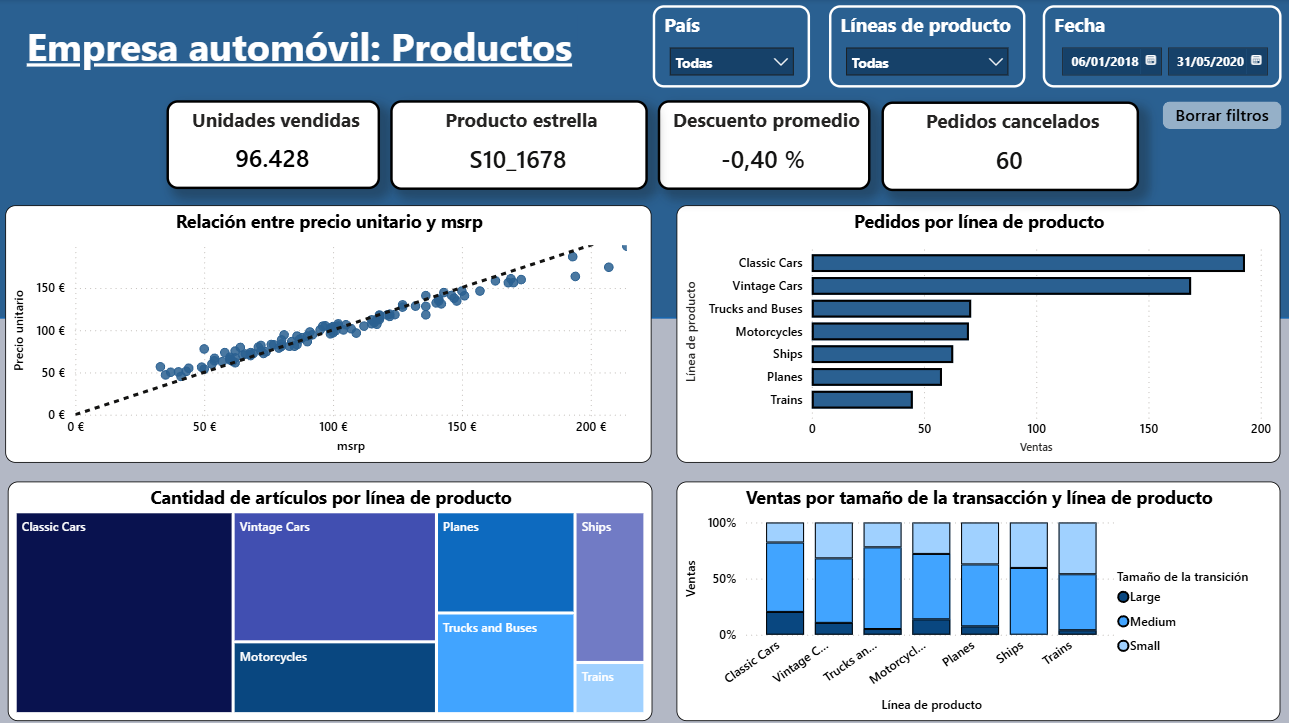

The page's visual inventory and layout, read from the dashboard file:
{"tool":"powerbi","page":{"name":"Productos","canvas":[1280,720],"ordinal":2},"visuals":[{"type":"cardVisual","title":"Ventas totales","fields":{"Data":["coches_limpio.ventas totales"]},"box":[177.9,115.1,209.2,87.6],"z":0},{"type":"shape","box":[0,0,1280.3,313.5],"z":1000},{"type":"clusteredBarChart","title":"Pedidos por línea de producto","fields":{"Category":["coches_limpio.product_line"],"Y":["Count(coches_limpio.order_number)"]},"box":[674.9,202.5,592.6,252.8],"z":3000},{"type":"hundredPercentStackedColumnChart","title":"Ventas por tamaño de la transacción y línea de producto","fields":{"Category":["coches_limpio.product_line"],"Series":["coches_limpio.deal_size"],"Y":["Sum(coches_limpio.sales)"]},"box":[674.9,473.6,592.6,235.6],"z":4000},{"type":"treemap","title":"Cantidad de artículos por línea de producto","fields":{"Group":["coches_limpio.product_line"],"Values":["Sum(coches_limpio.quantity_ordered)"]},"box":[18.4,473.6,633.1,235.6],"z":5000},{"type":"slicer","title":"Líneas de producto","fields":{"Values":["coches_limpio.product_line"]},"box":[824.5,6.1,192.6,81],"z":6000},{"type":"slicer","title":"Fecha","fields":{"Values":["coches_limpio.order_date"]},"box":[1034.4,6.1,234.4,81],"z":7000},{"type":"slicer","title":"País","fields":{"Values":["coches_limpio.country"]},"box":[651.5,6.1,154.6,81],"z":8000},{"type":"textbox","box":[32.3,15.4,545.6,72.2],"z":9000},{"type":"actionButton","box":[1152.2,100.6,116.6,27],"z":10000},{"type":"cardVisual","title":"Descuento promedio","fields":{"Data":["coches_limpio.descuento_promedio"]},"box":[657,98.9,208.6,88.3],"z":11000},{"type":"cardVisual","title":"Unidades vendidas","fields":{"Data":["coches_limpio.unidades_vendidas"]},"box":[174,99.7,209.8,87.1],"z":12000},{"type":"cardVisual","title":"Producto estrella","fields":{"Data":["Min(coches_limpio.product_code)"]},"box":[394,99.3,252.8,88.3],"z":13000},{"type":"cardVisual","title":"Pedidos cancelados","fields":{"Data":["coches_limpio.Pedidos_cancelados"]},"box":[875.8,100.1,252.8,88.3],"z":14000},{"type":"scatterChart","title":"Relación entre precio unitario y msrp","fields":{"X":["Avg(coches_limpio.msrp)"],"Y":["Avg(coches_limpio.price_each)"],"Category":["coches_limpio.product_code"]},"box":[16,202.5,634.4,252.8],"z":15000}]}

Visuals, with their boxes in screenshot pixels (x1, y1, x2, y2), scaled from the page's 1280x720 canvas onto the 1289x723 screenshot:
"Ventas totales" cardVisual: 179, 116, 390, 204
shape: 0, 0, 1288, 315
"Pedidos por línea de producto" clusteredBarChart: 680, 203, 1276, 457
"Ventas por tamaño de la transacción y línea de producto" hundredPercentStackedColumnChart: 680, 476, 1276, 712
"Cantidad de artículos por línea de producto" treemap: 19, 476, 656, 712
"Líneas de producto" slicer: 830, 6, 1024, 87
"Fecha" slicer: 1042, 6, 1278, 87
"País" slicer: 656, 6, 812, 87
textbox: 33, 15, 582, 88
actionButton: 1160, 101, 1278, 128
"Descuento promedio" cardVisual: 662, 99, 872, 188
"Unidades vendidas" cardVisual: 175, 100, 386, 188
"Producto estrella" cardVisual: 397, 100, 651, 188
"Pedidos cancelados" cardVisual: 882, 101, 1137, 189
"Relación entre precio unitario y msrp" scatterChart: 16, 203, 655, 457
